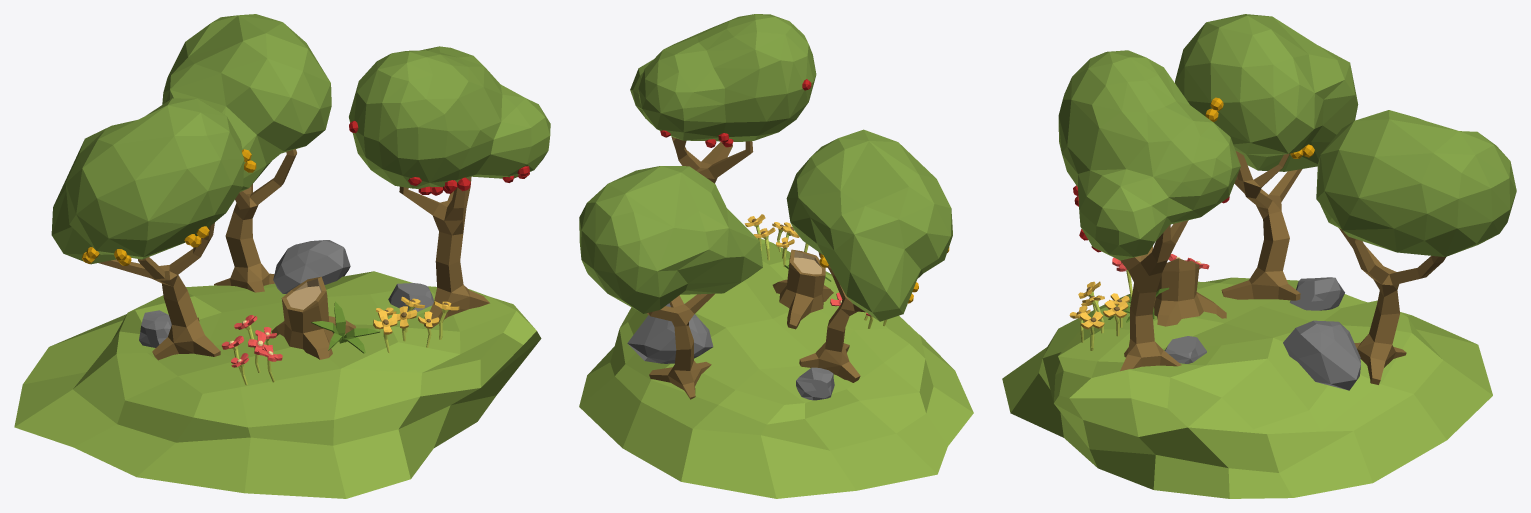
Rendered from nested fruittrees.fbx.
3 views of the same model, side by side, from view 1: azimuth 30°, elevation 25°; view 2: azimuth 150°, elevation 25°; view 3: azimuth 270°, elevation 25° (orthographic). The views are drawn at different scales.
Parts seen in each view (by area): view 1: nested fruittrees_LOD0; view 2: nested fruittrees_LOD0; view 3: nested fruittrees_LOD0.
Boxes of the visible parts, x1,y1,x2,y2 form: nested fruittrees_LOD0: (14,14,550,498); nested fruittrees_LOD0: (579,14,973,498); nested fruittrees_LOD0: (1002,14,1516,498).
Size of what is drawn, in the model's own units: 14.59 by 11.83 by 14.36.
